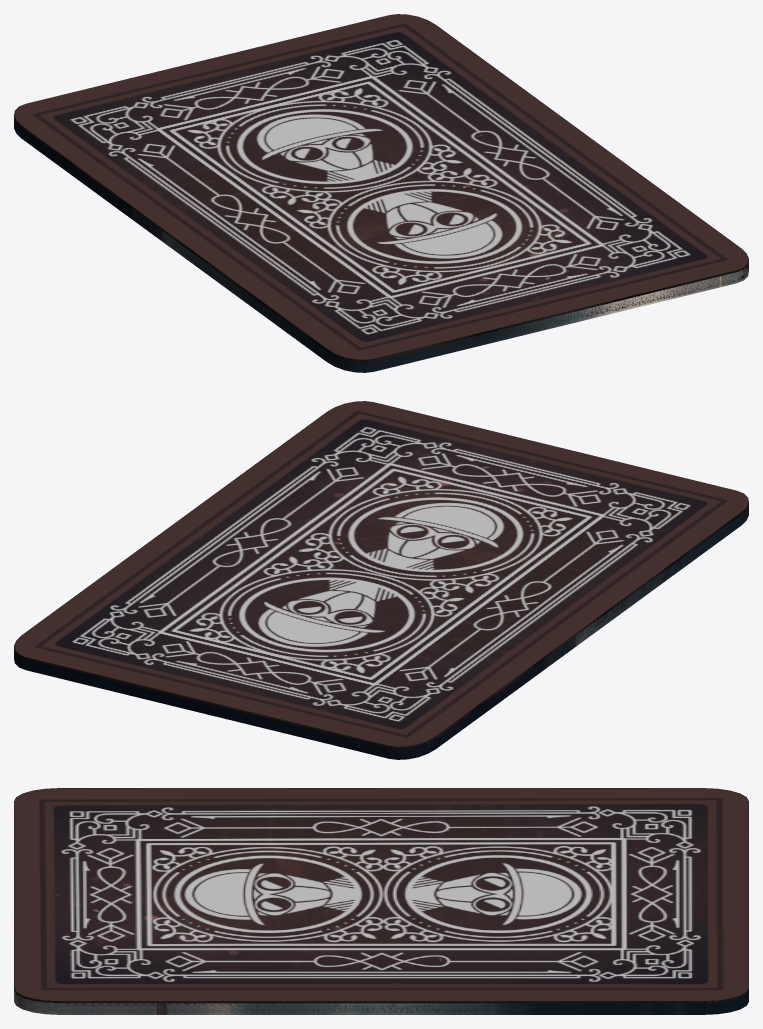
Rendered from queenof_swords_tarot.glb.
The picture shows the model from 3 angles, top to bottom: view 1: azimuth 30°, elevation 25°; view 2: azimuth 150°, elevation 25°; view 3: azimuth 270°, elevation 25°; orthographic projection. The views are drawn at different scales.
Visible parts, largest first — view 1: Plane.002, Plane.001; view 2: Plane.002, Plane.001; view 3: Plane.002, Plane.001.
Boxes of the visible parts, left/top/right/bottom form: Plane.002: left=14, top=14, right=748, bottom=370; Plane.001: left=14, top=118, right=748, bottom=372; Plane.002: left=14, top=401, right=748, bottom=756; Plane.001: left=14, top=505, right=748, bottom=759; Plane.002: left=14, top=788, right=748, bottom=1012; Plane.001: left=14, top=990, right=748, bottom=1014.
Bounding box in the file's own units: 2.28 × 0.0684 × 3.32.
Materials: 2 (2 with a texture image).
